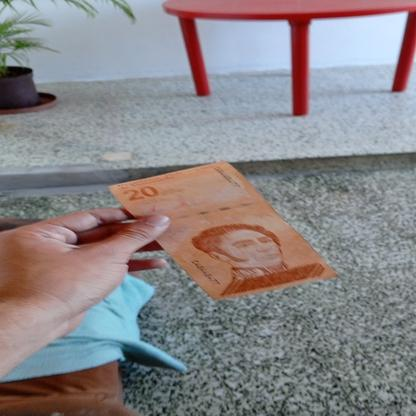twenty-front-vef: (107, 160, 338, 302)
